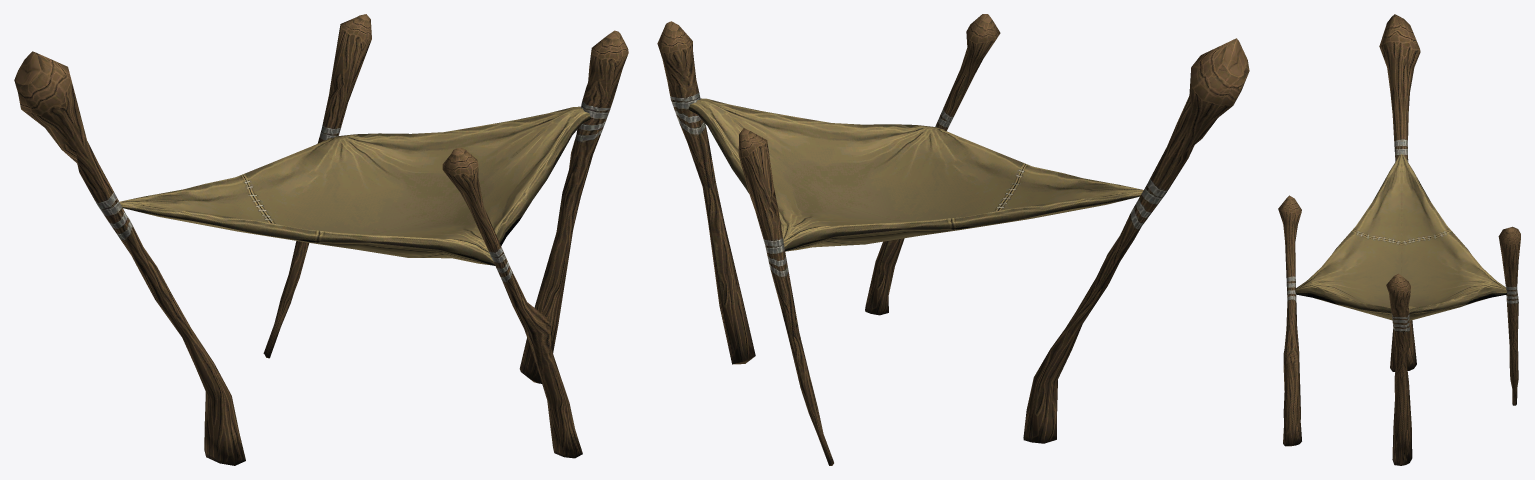
Rendered from tent2.fbx.
3 views of the same model, side by side, from view 1: azimuth 30°, elevation 25°; view 2: azimuth 150°, elevation 25°; view 3: azimuth 270°, elevation 25° (orthographic). The views are drawn at different scales.
Visible parts, largest first — view 1: node_id6; view 2: node_id6; view 3: node_id6.
Boxes of the visible parts, left/top/right/bottom form: node_id6: left=14, top=14, right=628, bottom=465; node_id6: left=657, top=14, right=1249, bottom=465; node_id6: left=1278, top=14, right=1520, bottom=465.
Size of the model in its own units: 0.512 by 0.3723 by 0.2772.
1 material, 1 textured.
